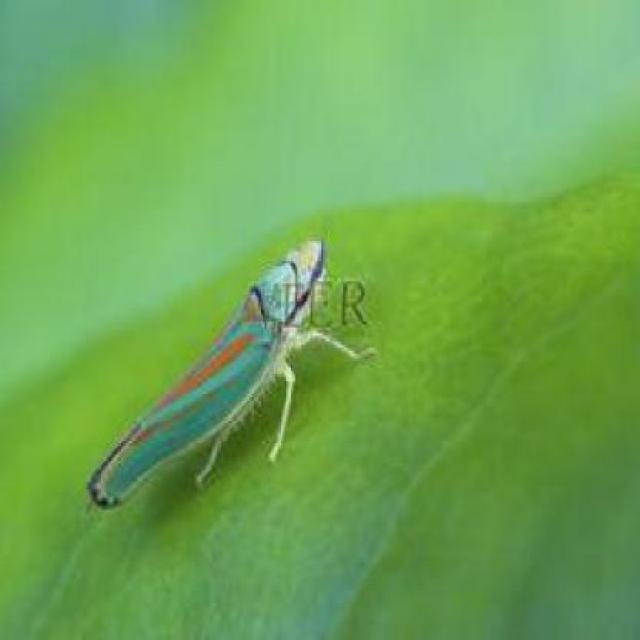green-leafhopper: (83, 223, 343, 512)
